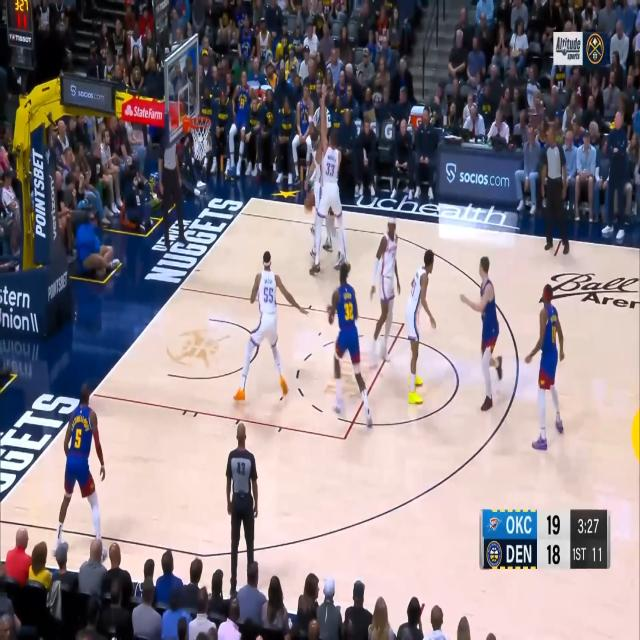Ball: (305, 194, 313, 213)
Clock: (6, 0, 32, 32)
Hoop: (189, 116, 212, 160)
Overlay: (479, 508, 611, 571), (553, 31, 611, 66)
Player: (232, 249, 310, 402), (52, 383, 109, 563), (308, 83, 349, 277), (327, 262, 373, 430), (459, 255, 503, 412), (525, 284, 565, 451), (405, 248, 437, 406), (369, 215, 401, 369), (312, 145, 344, 270), (310, 97, 327, 261)
Ref: (225, 422, 259, 597), (158, 130, 190, 253), (541, 126, 570, 255)
Scoreboard: (482, 508, 607, 569)
